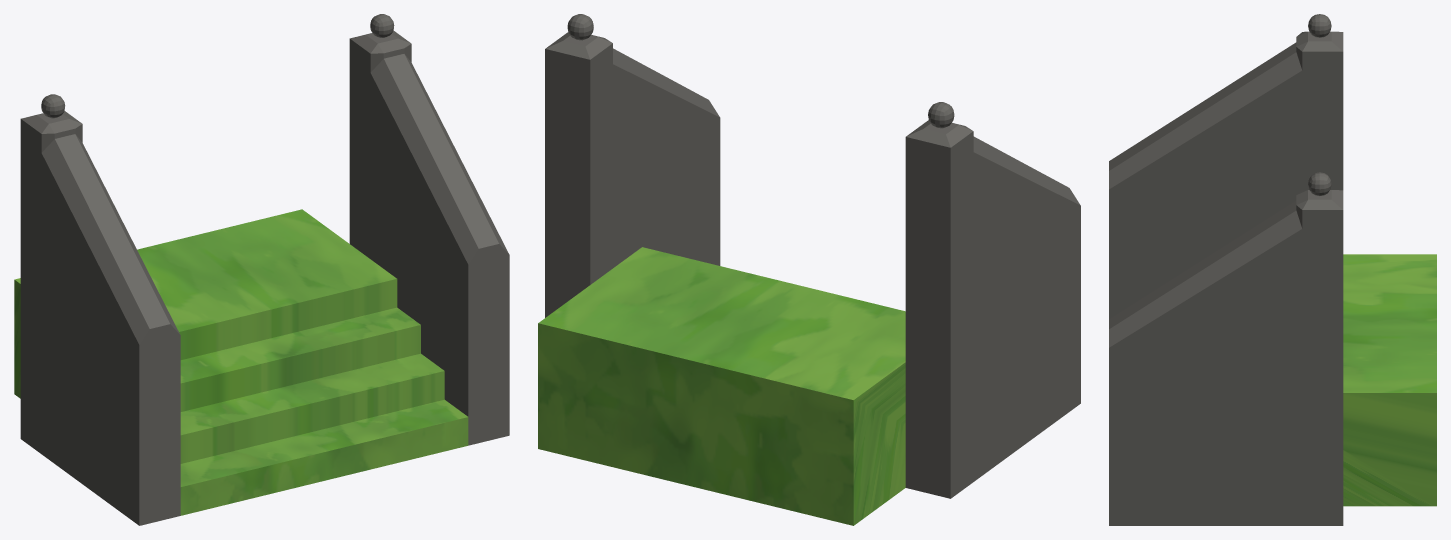
File: Stairs01_1x1x1.fbx
3 renders of one model, left to right at view 1: azimuth 30°, elevation 25°; view 2: azimuth 150°, elevation 25°; view 3: azimuth 270°, elevation 25°, orthographic. The views are drawn at different scales.
Parts seen in each view (by area): view 1: Stairs01_1x1x1; view 2: Stairs01_1x1x1; view 3: Stairs01_1x1x1.
Part boxes in pixels (x1=…): Stairs01_1x1x1: x1=14, y1=14, x2=509, y2=525; Stairs01_1x1x1: x1=538, y1=14, x2=1080, y2=525; Stairs01_1x1x1: x1=1109, y1=14, x2=1436, y2=525.
Size of the model in its own units: 3.37 by 2.63 by 3.03.
